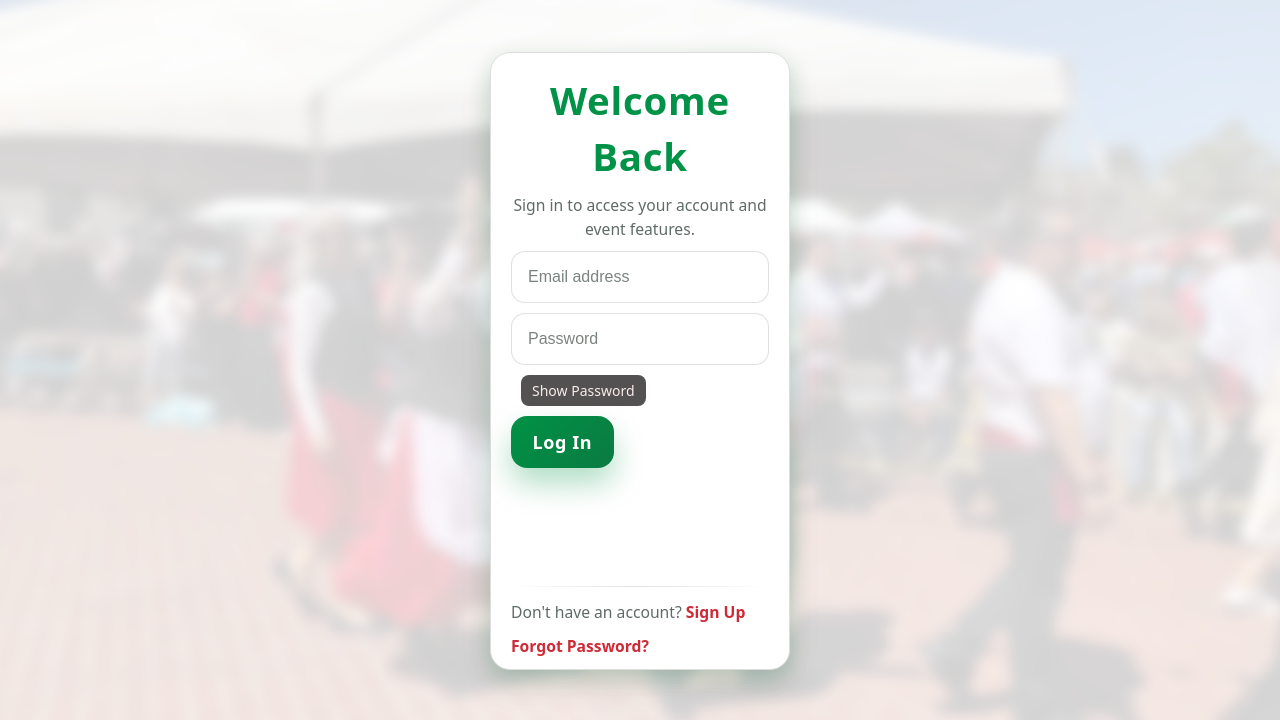
Login attempt limiting › resets failed attempts after a successful login
Type "test@example.com" into the field with placeholder "Email address" at [640, 277], box [511,251,769,303]
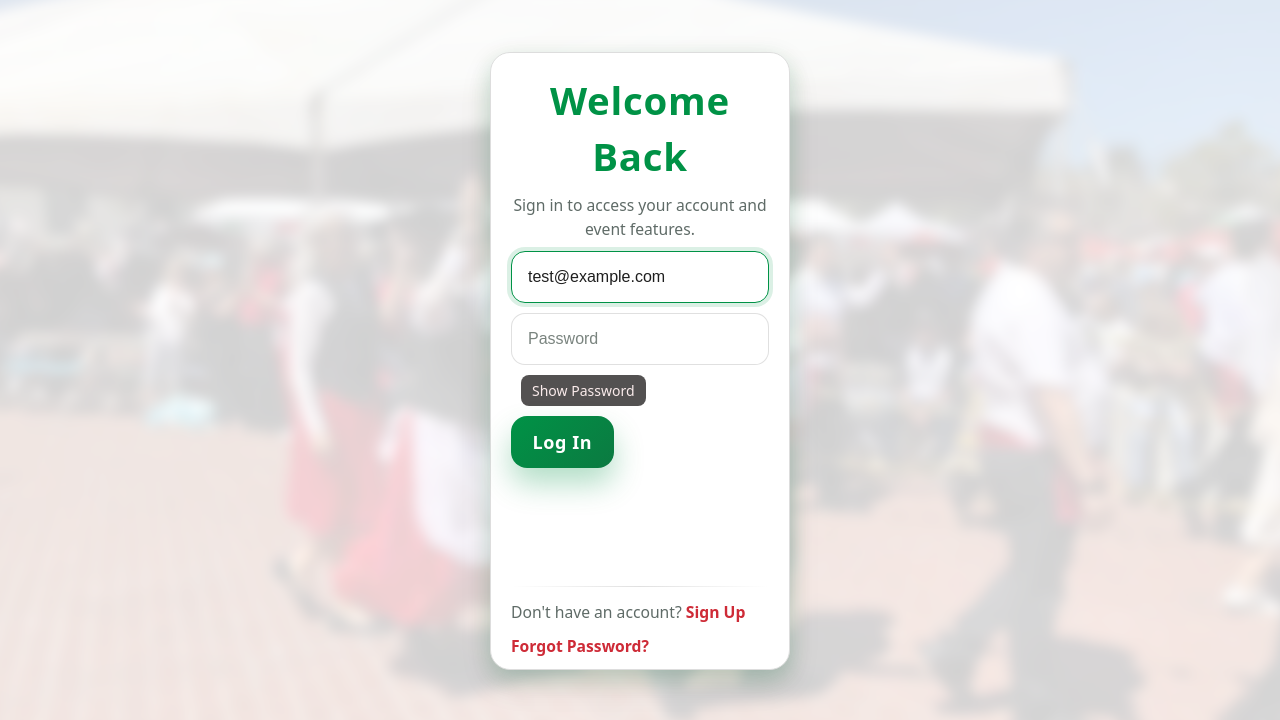
Type "correctpassword" into the password field with placeholder "Password" at [640, 339], box [511,313,769,365]
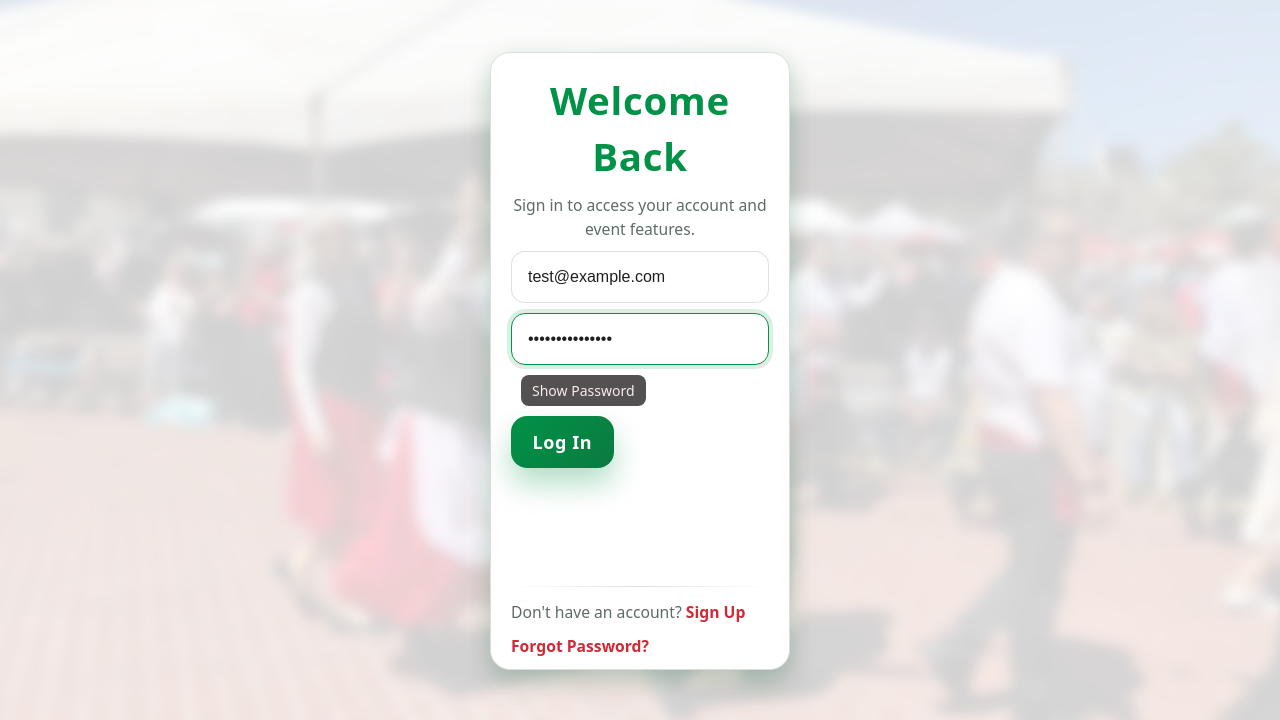
Click the button "Log In" at [562, 442], box [511,416,614,468]
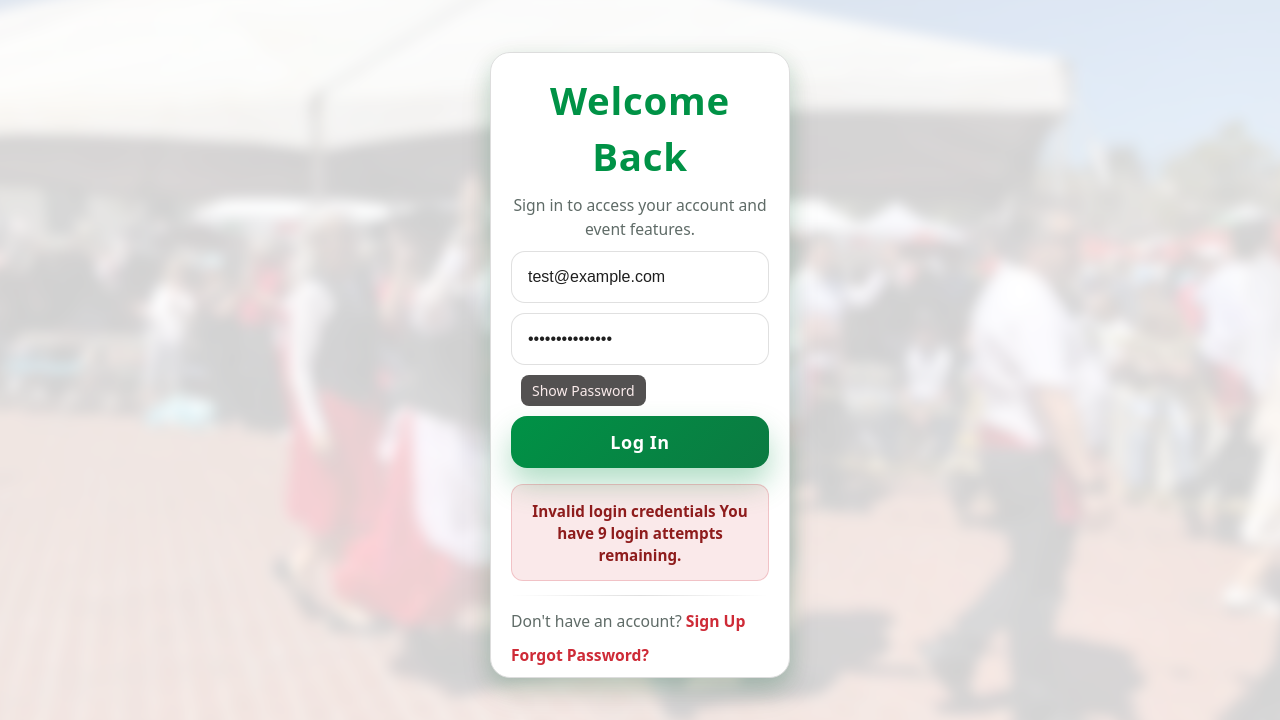
Now the text "9 login attempts remaining" is shown, box [532,501,748,565]
Click the button "Log In" at [640, 442], box [511,416,769,468]
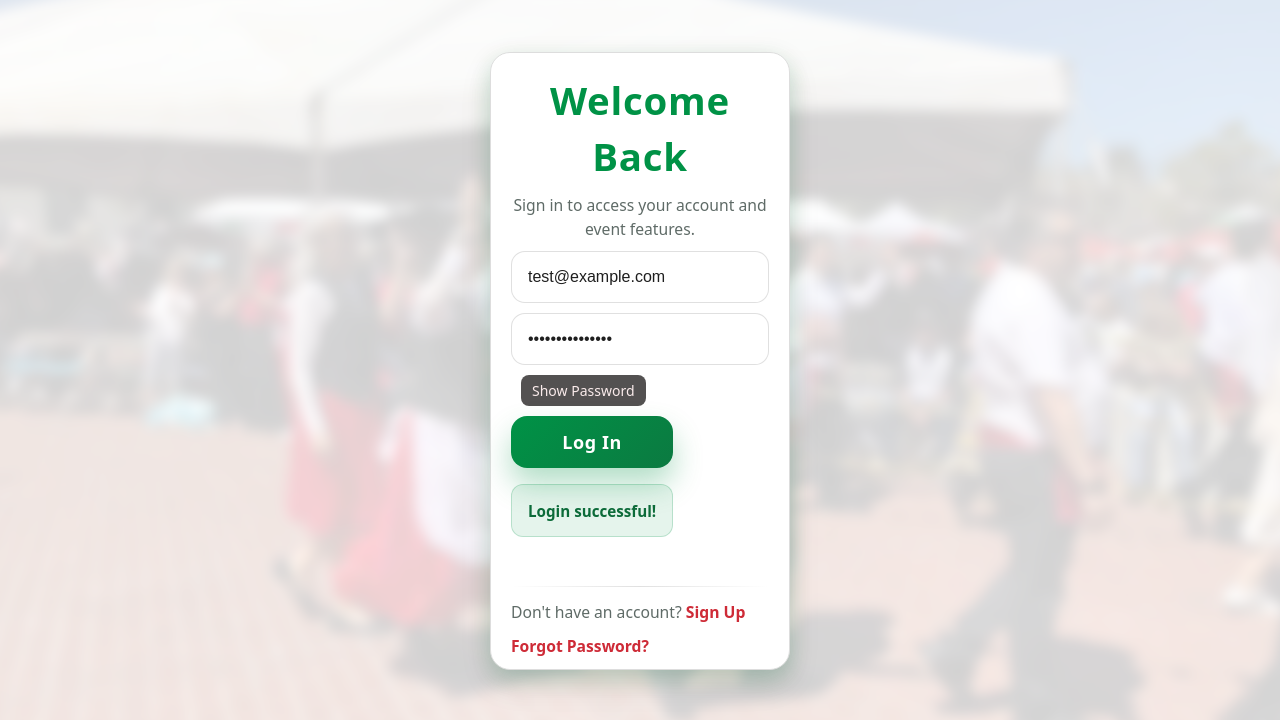
Now the text "Login successful!" is shown, box [511,484,673,537]
